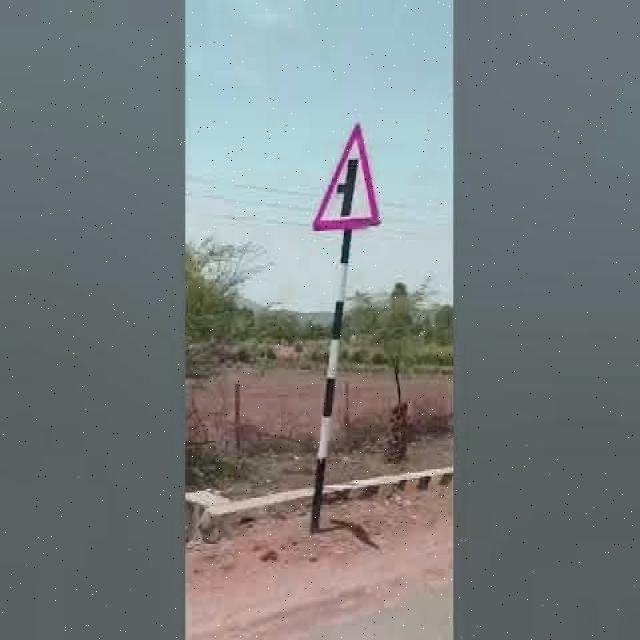Sideroad_toleft: (306, 121, 388, 232)
